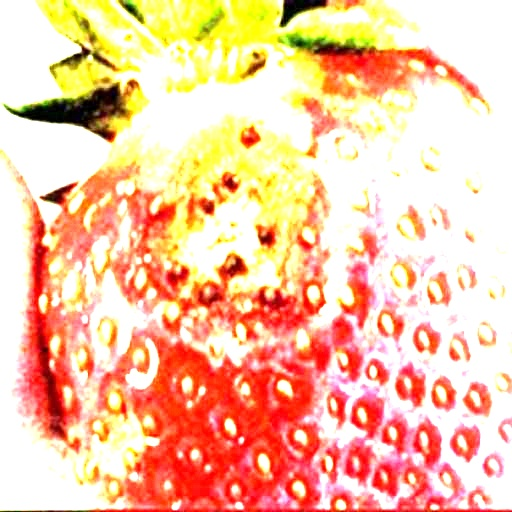Anthracnose Fruit Rot: (111, 76, 376, 365)
